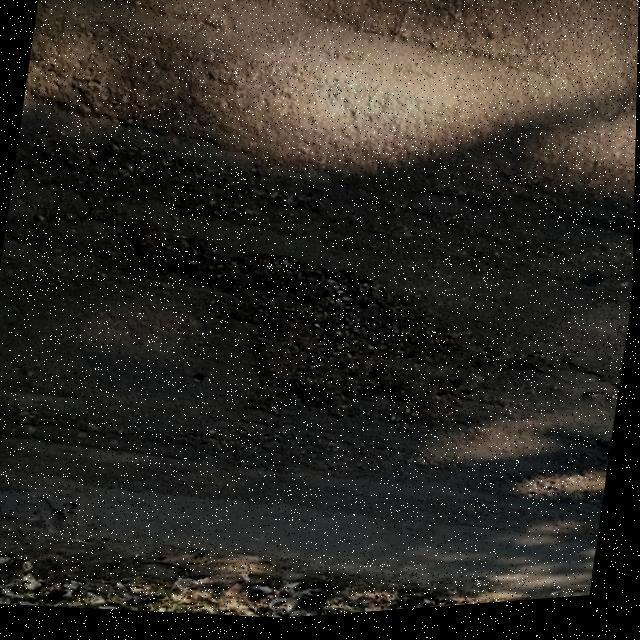pothole: (88, 190, 540, 474)
